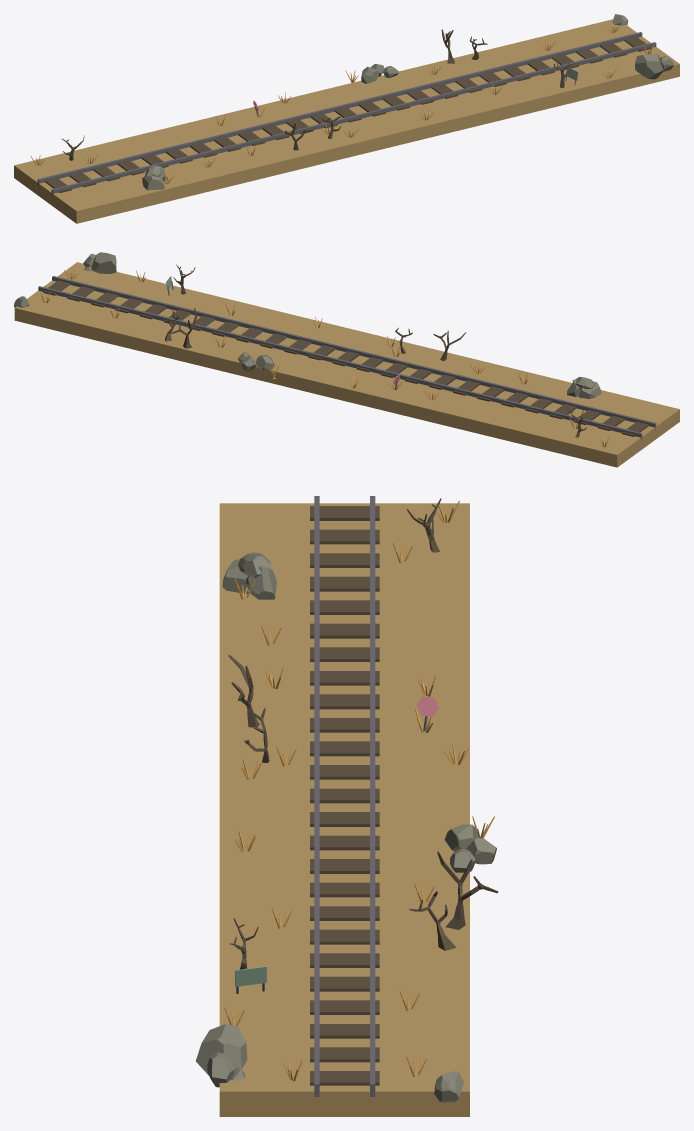
Rendered from Meio-Desolação-1.glb.
3 renders of one model, top to bottom at view 1: azimuth 30°, elevation 25°; view 2: azimuth 150°, elevation 25°; view 3: azimuth 270°, elevation 25°, orthographic. The views are drawn at different scales.
Visible parts, largest first — view 1: CHAO.001, TRILHO.001, PEDRA.007; view 2: CHAO.001, TRILHO.001, PEDRA.007; view 3: CHAO.001, TRILHO.001, PEDRA.007, ARVORE.006.
Boxes of the visible parts, left/top/right/bottom form: CHAO.001: left=14, top=19, right=679, bottom=223; TRILHO.001: left=37, top=32, right=656, bottom=196; PEDRA.007: left=635, top=54, right=663, bottom=79; CHAO.001: left=14, top=262, right=679, bottom=467; TRILHO.001: left=38, top=276, right=656, bottom=439; PEDRA.007: left=91, top=252, right=116, bottom=273; CHAO.001: left=219, top=503, right=469, bottom=1116; TRILHO.001: left=310, top=496, right=379, bottom=1096; PEDRA.007: left=196, top=1024, right=247, bottom=1075; ARVORE.006: left=437, top=851, right=498, bottom=929.
Bounding box in the file's own units: 50.34 × 3.86 × 10.87.
